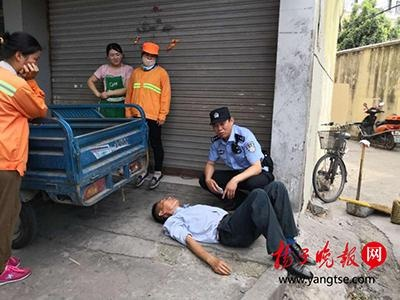falling: (143, 178, 324, 282)
